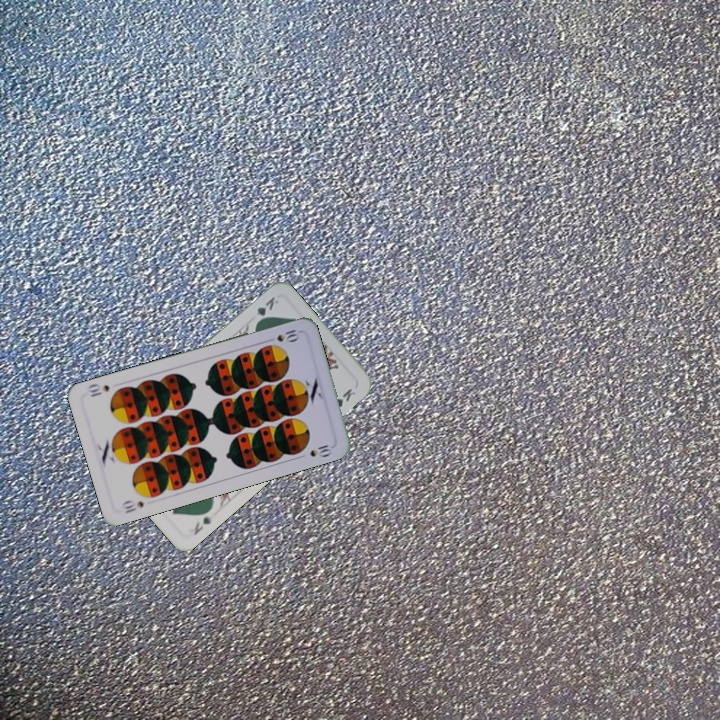GK: (251, 292, 282, 327), (189, 511, 216, 538)
S10: (262, 325, 302, 345), (121, 497, 147, 516)
